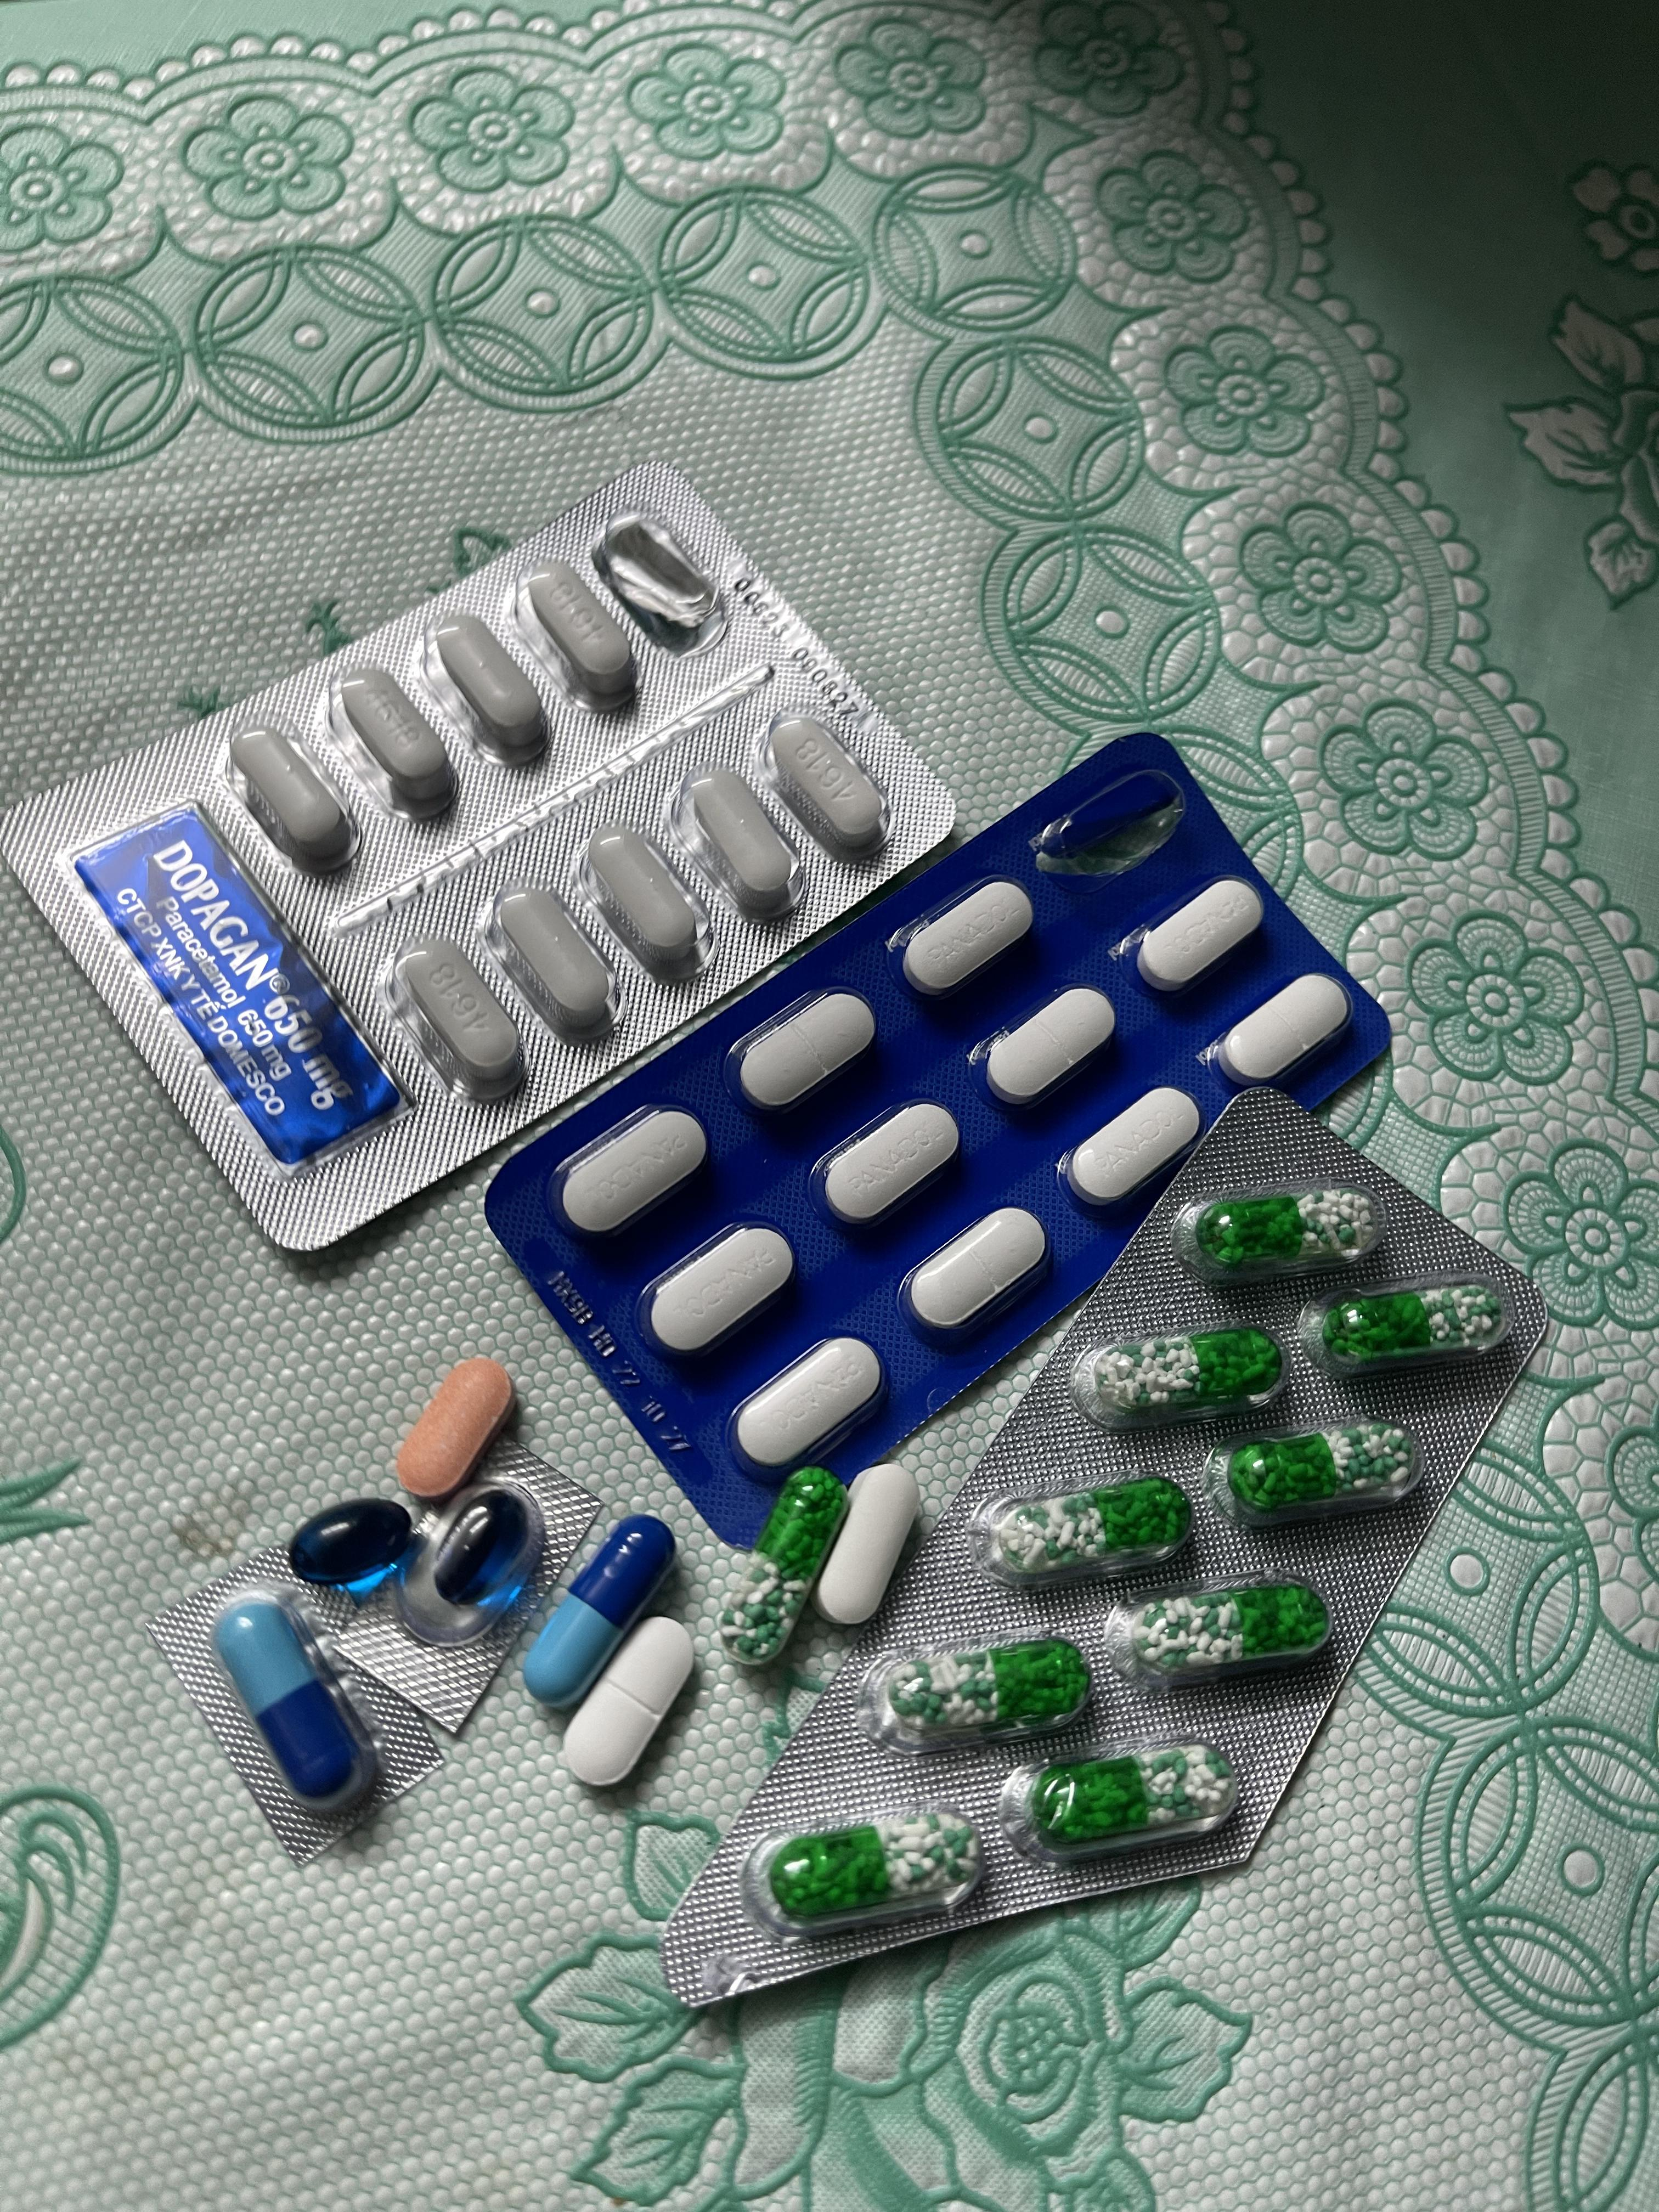Lincomyxin_500mg: (288, 1498, 420, 1606), (430, 1500, 507, 1602)
Loratadine_10mg: (399, 1359, 516, 1493)
Paracetamol_350mg: (559, 1616, 699, 1791), (640, 1219, 796, 1362), (728, 1334, 882, 1474), (552, 1106, 706, 1238), (812, 1090, 962, 1224), (904, 1205, 1047, 1338), (734, 986, 877, 1115), (983, 986, 1117, 1111), (1213, 972, 1354, 1090), (897, 878, 1032, 996), (1072, 1087, 1202, 1204), (1133, 878, 1265, 993)
Paracetamol_500mg: (483, 876, 622, 1042), (385, 937, 525, 1099), (326, 665, 458, 827), (579, 826, 711, 981), (422, 615, 551, 773), (228, 718, 361, 871), (514, 559, 640, 716), (673, 772, 802, 920), (763, 716, 887, 859), (814, 1467, 918, 1625)
Paracetamol_650mg: (716, 1468, 854, 1655), (767, 1811, 979, 1916), (1072, 1320, 1262, 1428), (1033, 1745, 1227, 1841), (890, 1641, 1084, 1731), (992, 1482, 1175, 1568), (1201, 1190, 1384, 1270), (1232, 1430, 1406, 1514), (1140, 1590, 1314, 1669), (1323, 1289, 1500, 1364)
pill: (213, 1580, 380, 1813), (521, 1515, 678, 1710)
